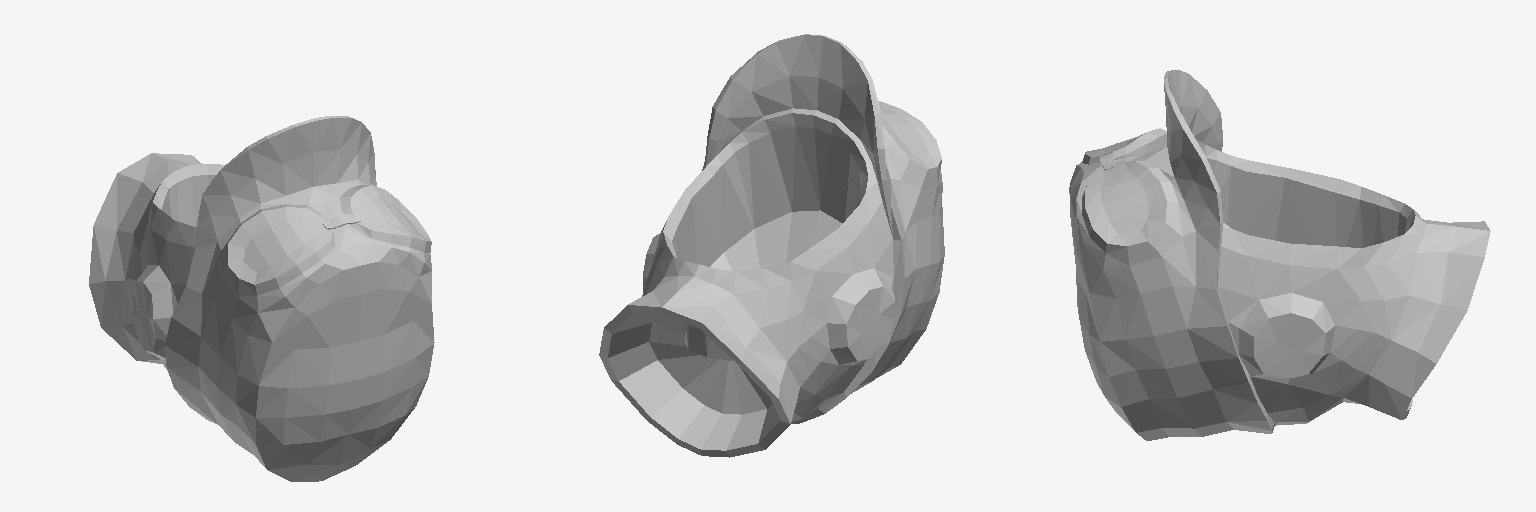
Rendered from cap.obj.
3 renders of one model, left to right at view 1: azimuth 30°, elevation 25°; view 2: azimuth 150°, elevation 25°; view 3: azimuth 270°, elevation 25°, orthographic.
Parts seen in each view (by area): view 1: MHelmet:0; view 2: MHelmet:0; view 3: MHelmet:0.
Part boxes in pixels (bbox=[...]): MHelmet:0: bbox=[89, 116, 434, 481]; MHelmet:0: bbox=[599, 34, 944, 457]; MHelmet:0: bbox=[1069, 70, 1490, 440].
Bounding box in the file's own units: 14.26 × 21.11 × 22.61.